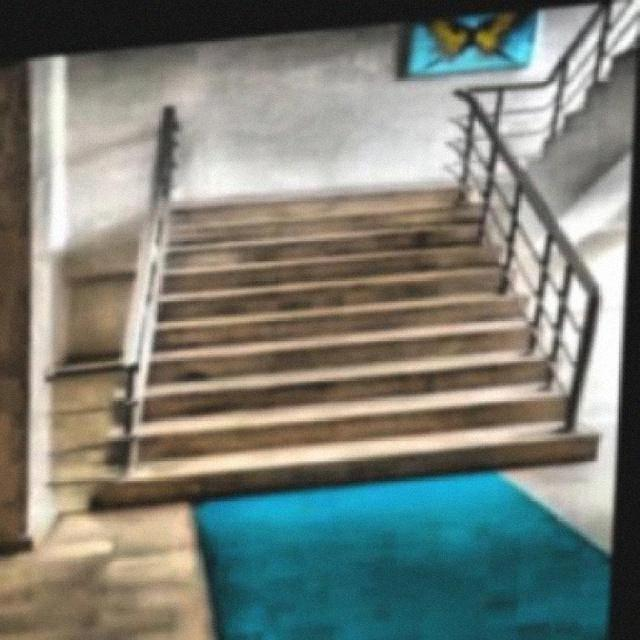stair: (63, 168, 626, 508)
